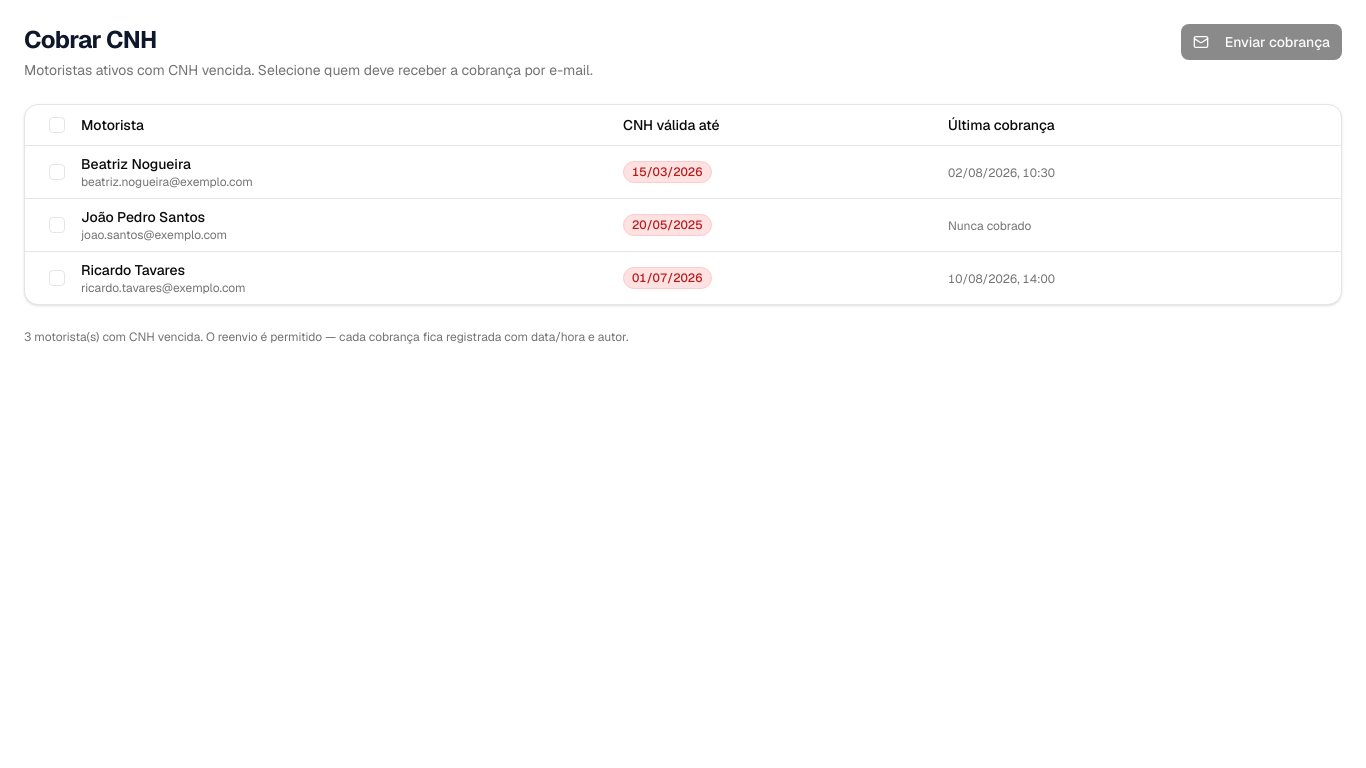
Test case: CnhCollectionClient — resumo pós-envio › resumo padronizado mostra enviados, degradados e falhas sem vazar env var
The image size is (1366, 768).
Click the checkbox named "Selecionar todos".
click(57, 125)  # box [49, 117, 65, 133]
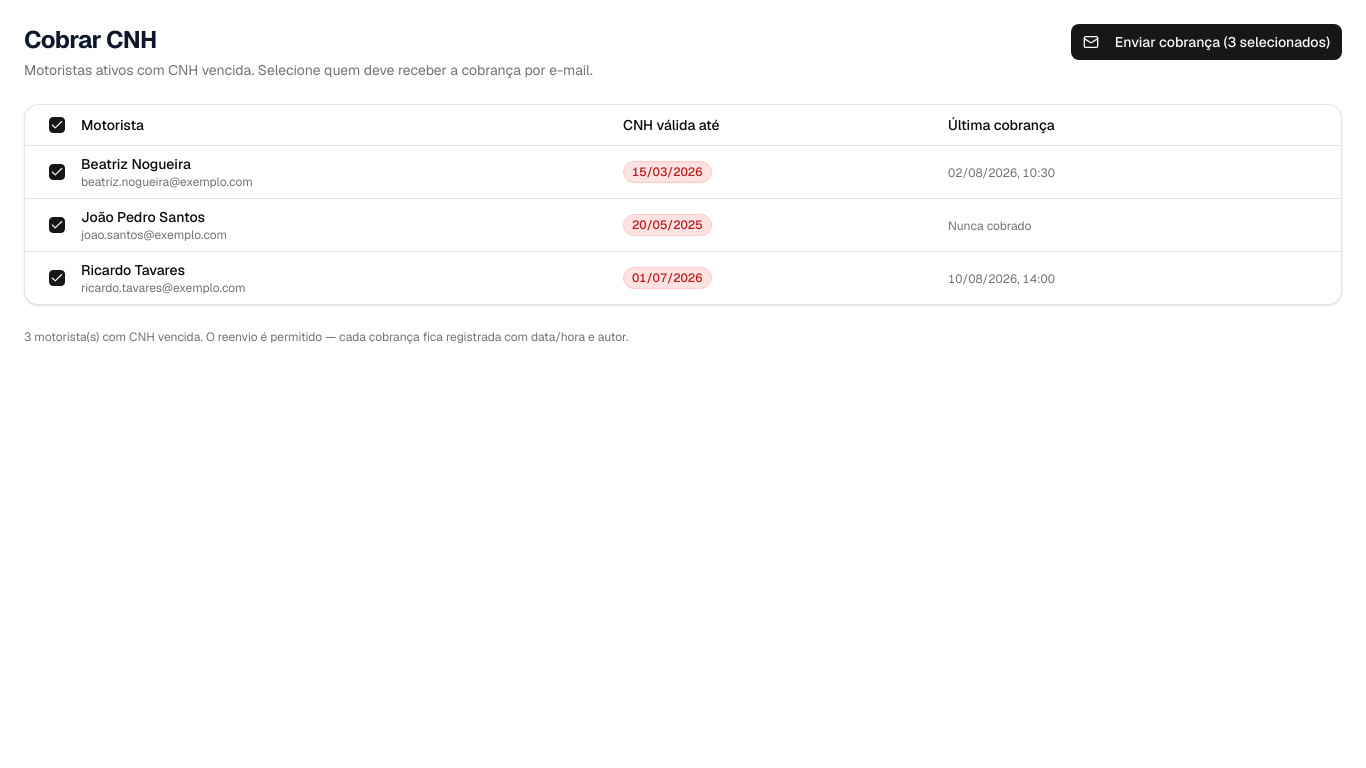
Click the button "Enviar cobrança (3 selecionados)".
click(1206, 42)  # box [1071, 24, 1342, 60]
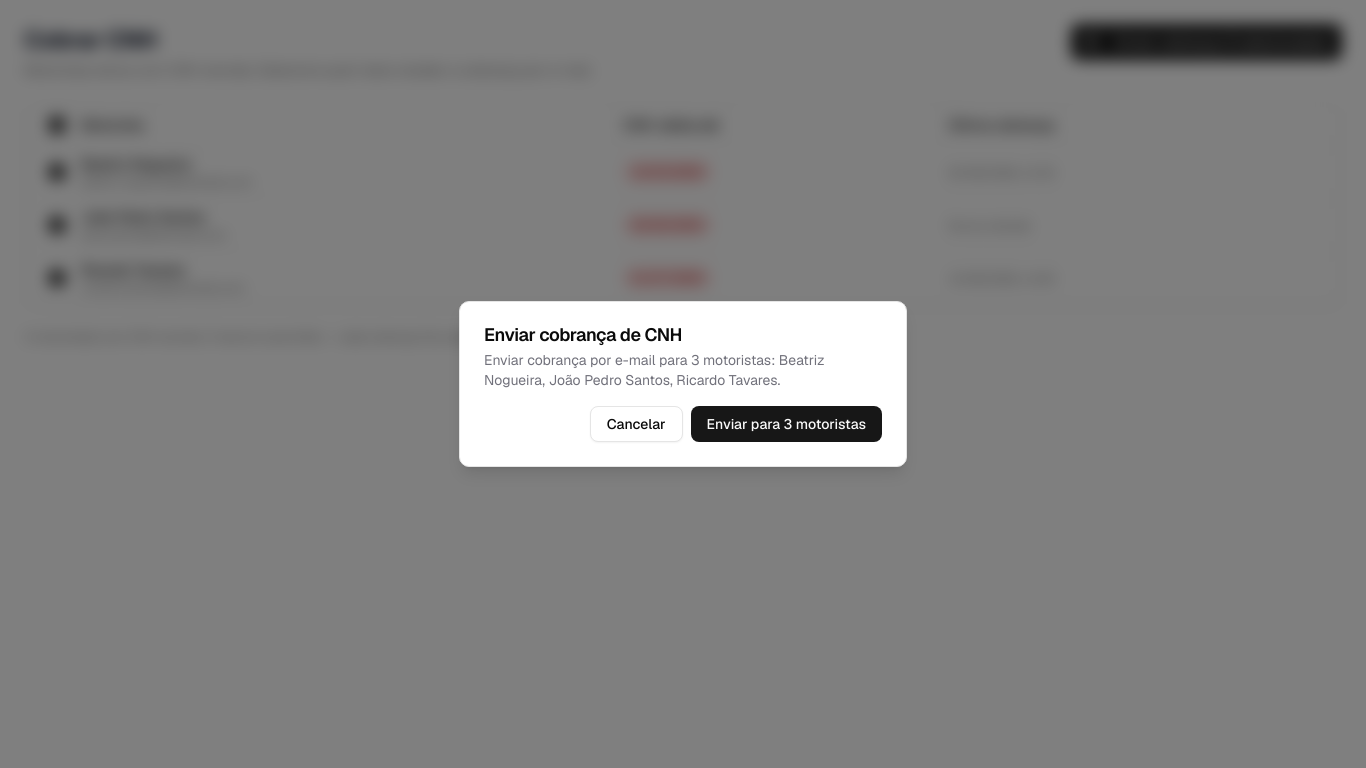
Note: Confirma no dialog
Click the button "Enviar para 3 motoristas".
click(786, 424)  # box [691, 406, 882, 442]
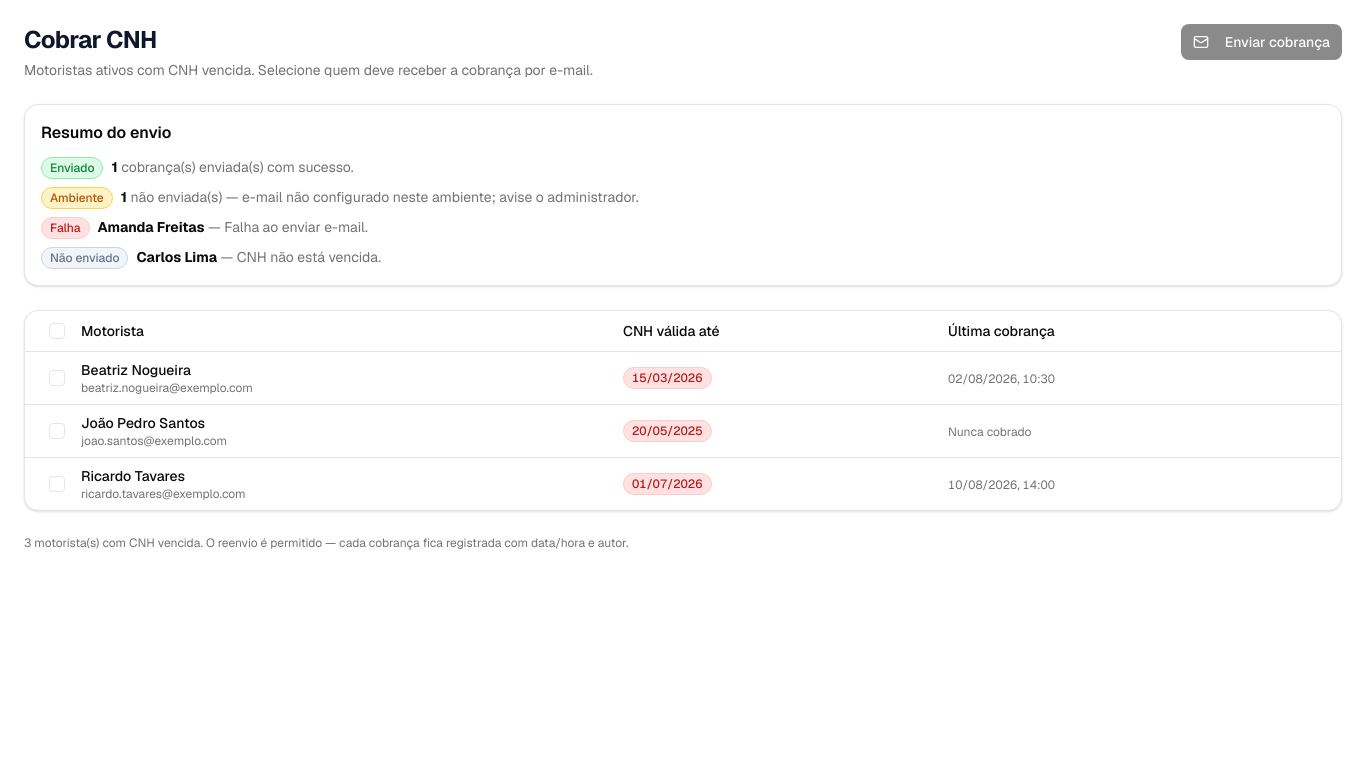
Now the heading "Resumo do envio" is shown, box [41, 122, 171, 143]
Now the text "Enviado" is shown, box [41, 157, 104, 179]
Now the text "Ambiente" is shown, box [41, 187, 113, 209]
